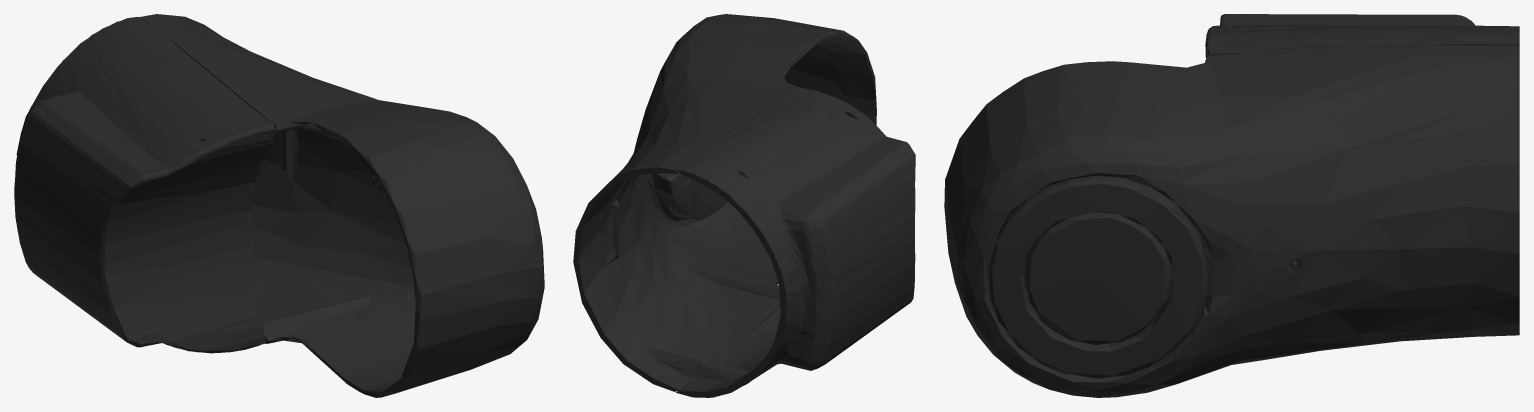
Rendered from arm_2.dae.
3 renders of one model, left to right at view 1: azimuth 30°, elevation 25°; view 2: azimuth 150°, elevation 25°; view 3: azimuth 270°, elevation 25°, orthographic. The views are drawn at different scales.
Visible parts, largest first — view 1: node; view 2: node; view 3: node.
Boxes of the visible parts, x1,y1,x2,y2 form: node: (14,14,544,397); node: (573,14,915,397); node: (944,14,1519,397).
Bounding box in the file's own units: 0.1635 × 0.1181 × 0.2187.
1 material, 1 textured.
